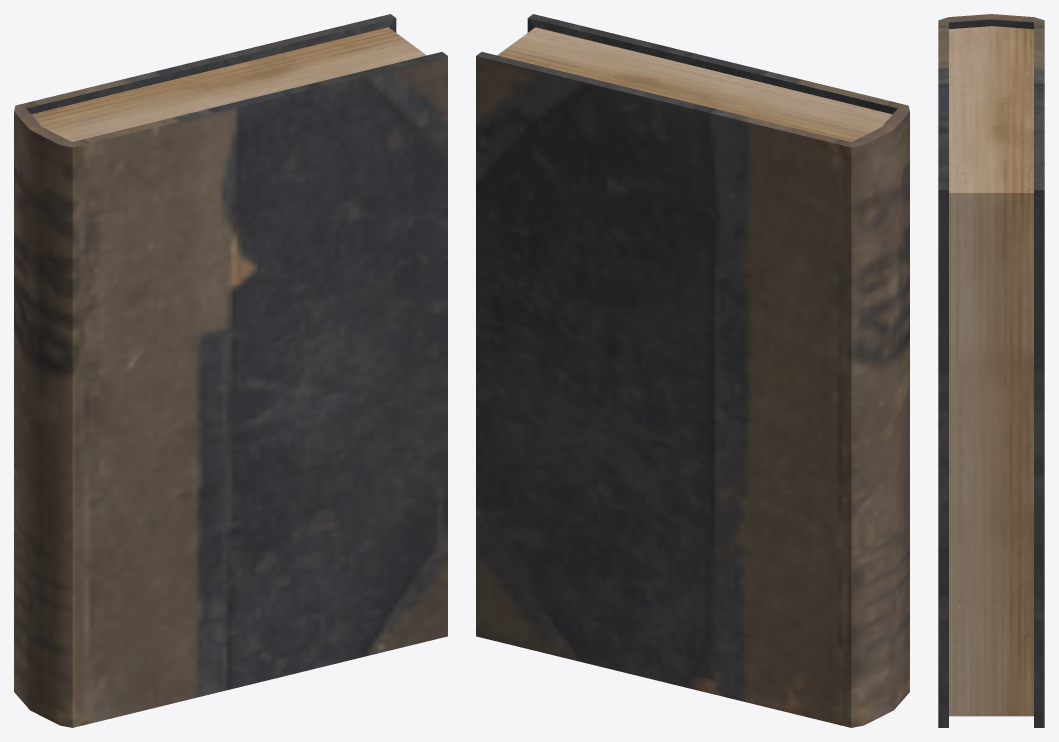
File: SM_Book_Old.041.fbx
The picture shows the model from 3 angles, left to right: view 1: azimuth 30°, elevation 25°; view 2: azimuth 150°, elevation 25°; view 3: azimuth 270°, elevation 25°; orthographic projection. The views are drawn at different scales.
Visible parts, largest first — view 1: SM_Book_Old.041; view 2: SM_Book_Old.041; view 3: SM_Book_Old.041.
Boxes of the visible parts, box(x1,y1,x2,y2) form: SM_Book_Old.041: box(14, 14, 447, 727); SM_Book_Old.041: box(476, 14, 909, 727); SM_Book_Old.041: box(938, 14, 1044, 727).
Bounding box in the file's own units: 0.1732 × 0.2468 × 0.0441.
